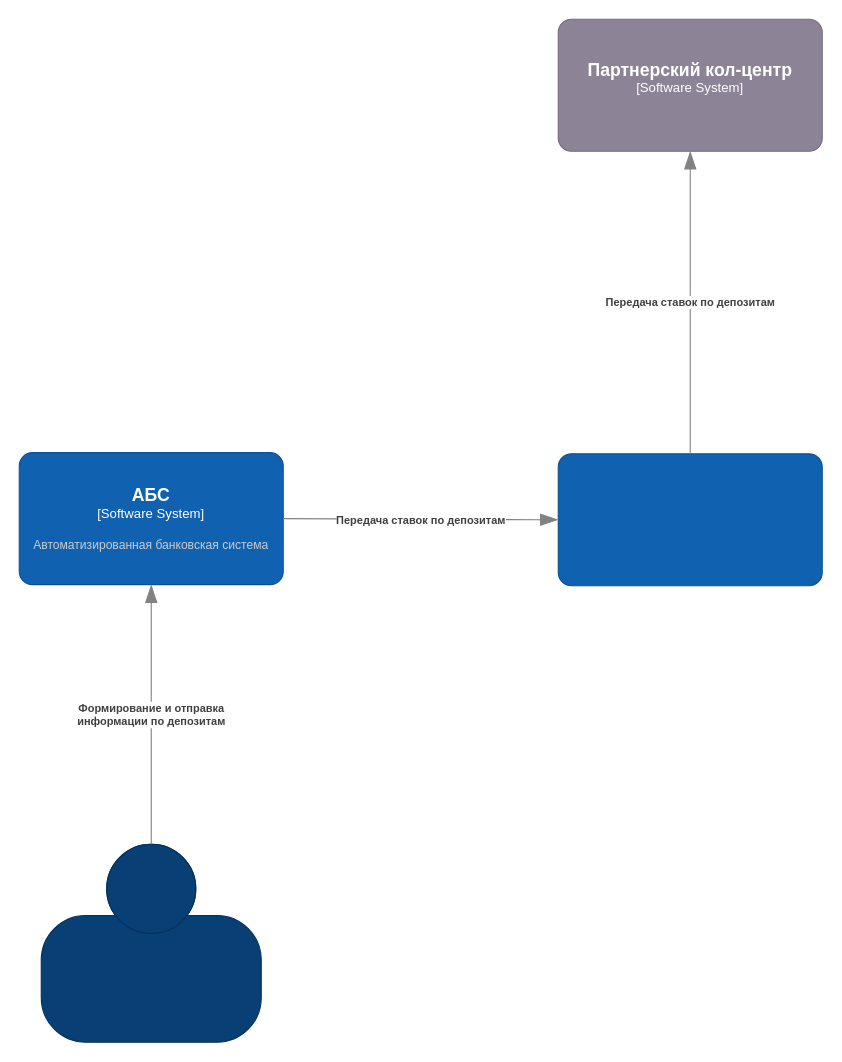
The diagram is 842 pixels wide and 1062 high, and some of its shapes have lost their labels. The box of each missing label's shape, as (x1, y1, x2, y2) in pixels:
Кол-центр [Software System]: (557, 453, 822, 586)
Менеджер депозитного бэк-офиса [Person]: (40, 843, 261, 1042)
